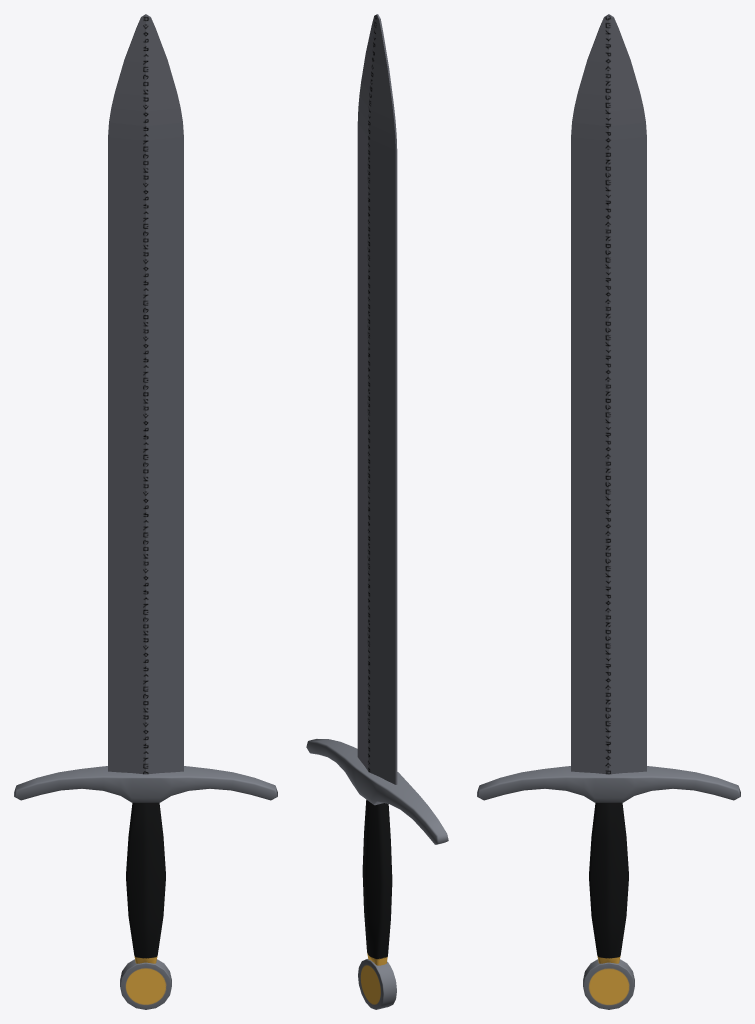
Rendered from Epee.fbx.
3 views of the same model, side by side, from view 1: azimuth 90°, elevation 25°; view 2: azimuth 210°, elevation 25°; view 3: azimuth 270°, elevation 25° (orthographic).
Parts seen in each view (by area): view 1: Epee; view 2: Epee; view 3: Epee.
Part boxes in pixels (<box>): Epee: <box>14,14,277,1009</box>; Epee: <box>306,14,448,1009</box>; Epee: <box>477,14,740,1009</box>.
Bounding box in the file's own units: 3.46 × 115 × 27.62.
